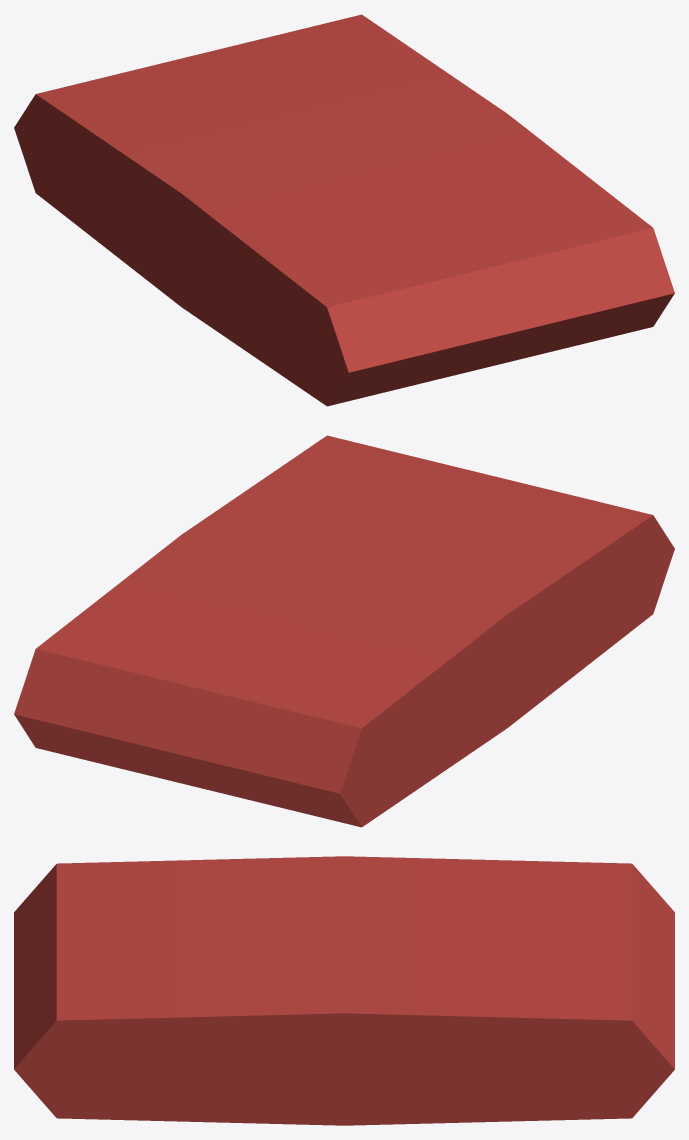
The model's file is lcd_lod2.glb.
3 renders of one model, top to bottom at view 1: azimuth 30°, elevation 25°; view 2: azimuth 150°, elevation 25°; view 3: azimuth 270°, elevation 25°, orthographic.
Visible parts, largest first — view 1: lcd_lod2; view 2: lcd_lod2; view 3: lcd_lod2.
Part boxes in pixels (x1,y1,x2,y2): lcd_lod2: (14, 14, 674, 406); lcd_lod2: (14, 435, 674, 827); lcd_lod2: (14, 856, 674, 1125).
Size of the model in its own units: 0.09 by 0.03 by 0.16.
